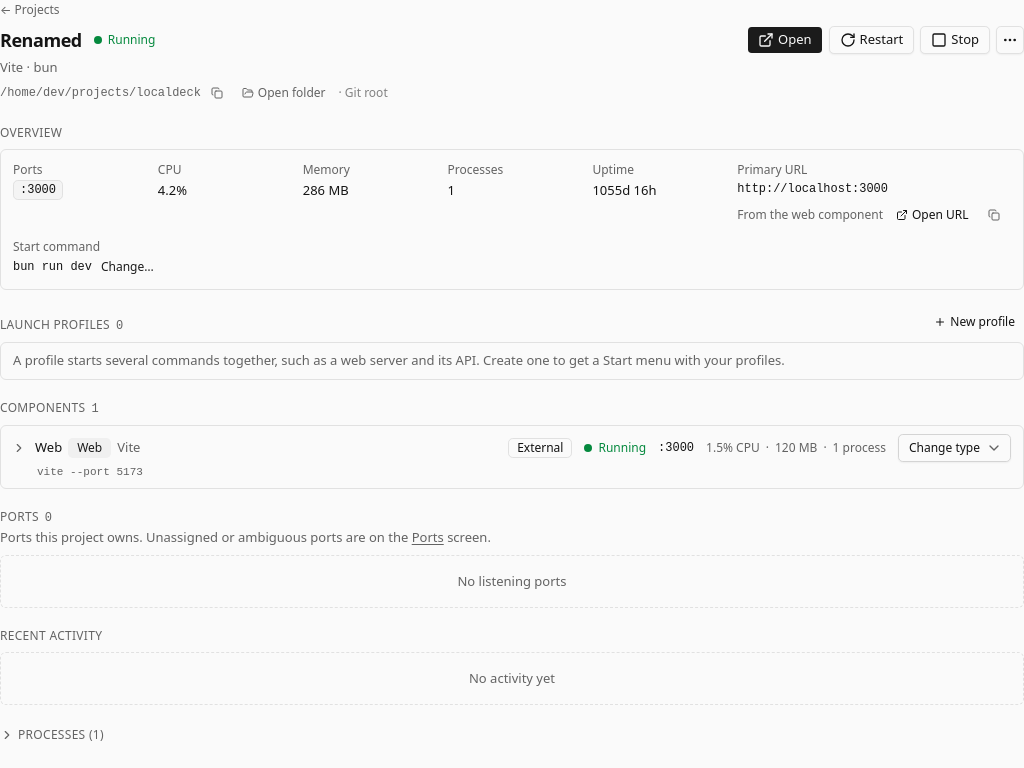
Test case: project settings dialog › is prefilled from the overrides and saves every field
Click the button named "More actions".
click(1010, 40)  # box [996,26,1023,54]
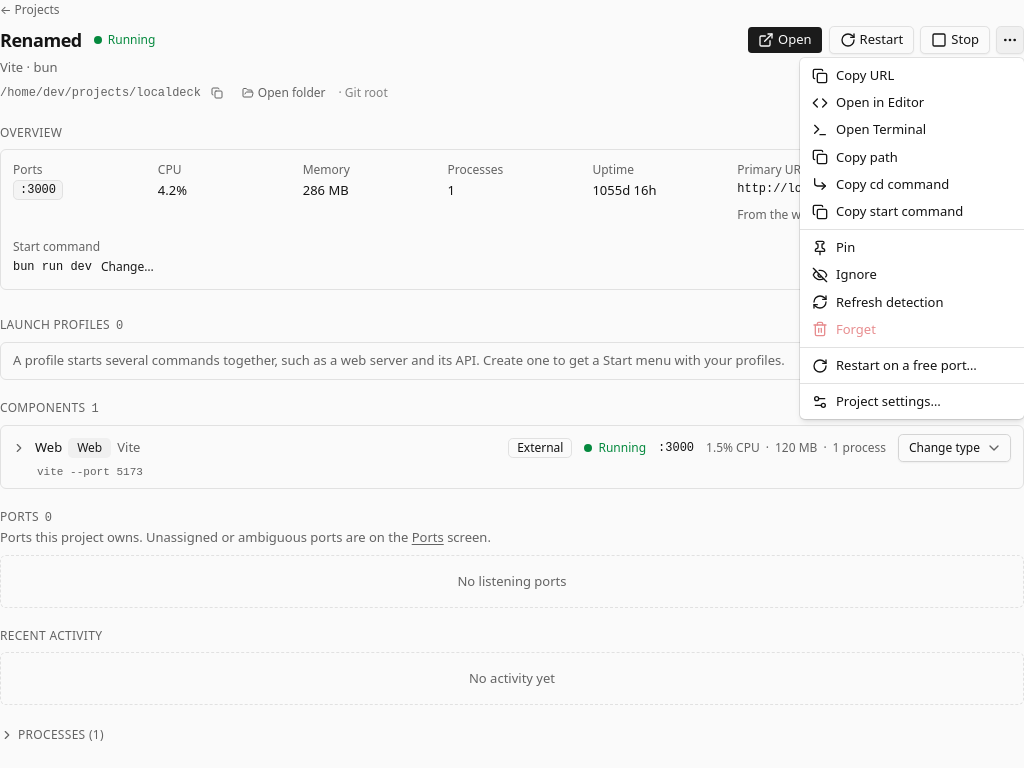
Click the menu item "Project settings…".
click(876, 401)  # box [812,392,941,410]
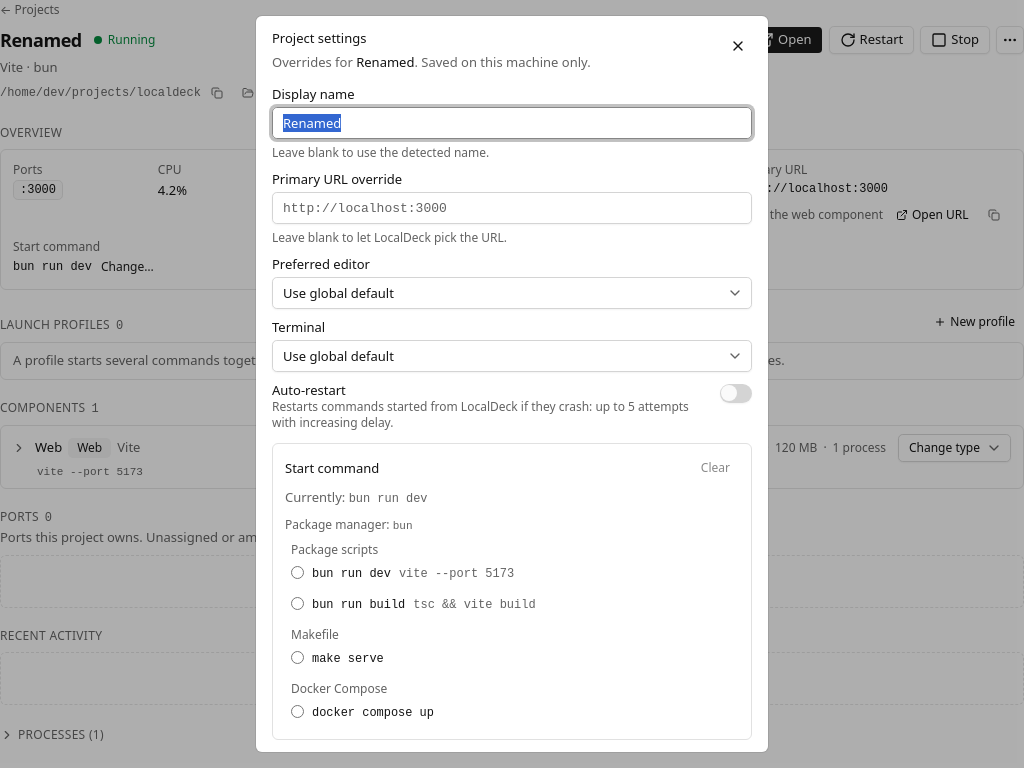
Now the field labelled "Display name" holds "Renamed"
Replace the text in the field labelled "Display name" with "My app" at (512, 123), box [272,107,752,139]
Type "localhost:4000" into the field labelled "Primary URL override".
click(512, 208); type("localhost:4000")  # box [272,192,752,224]
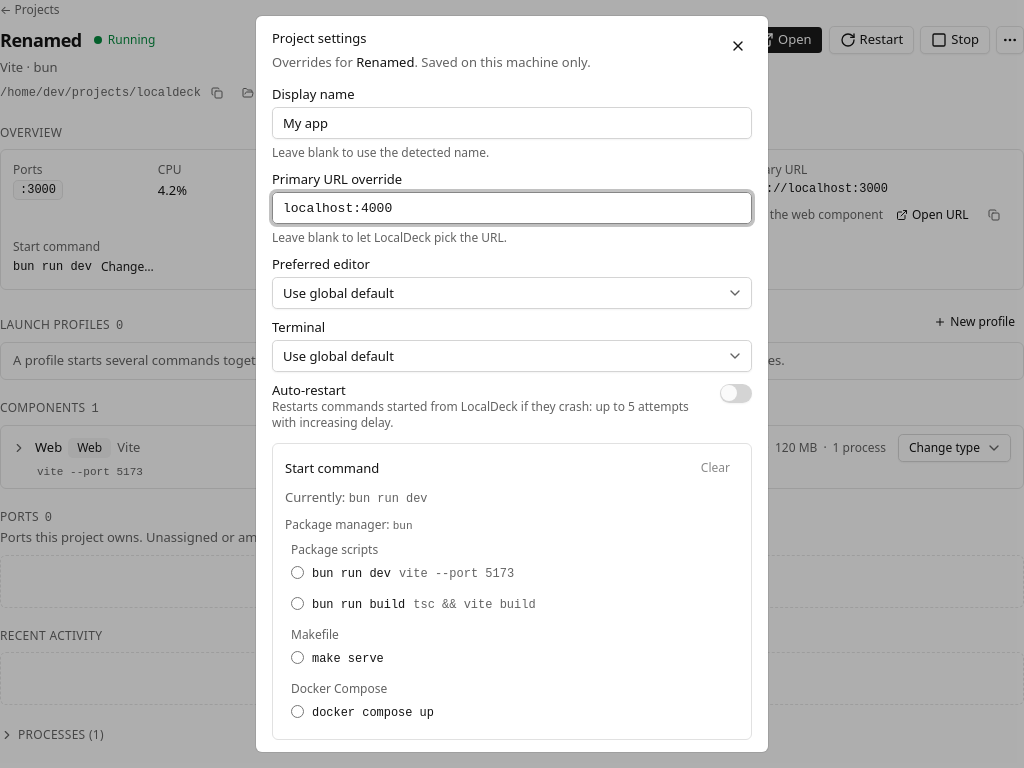
Click the dropdown named "Preferred editor".
click(338, 293)  # box [272,277,752,309]
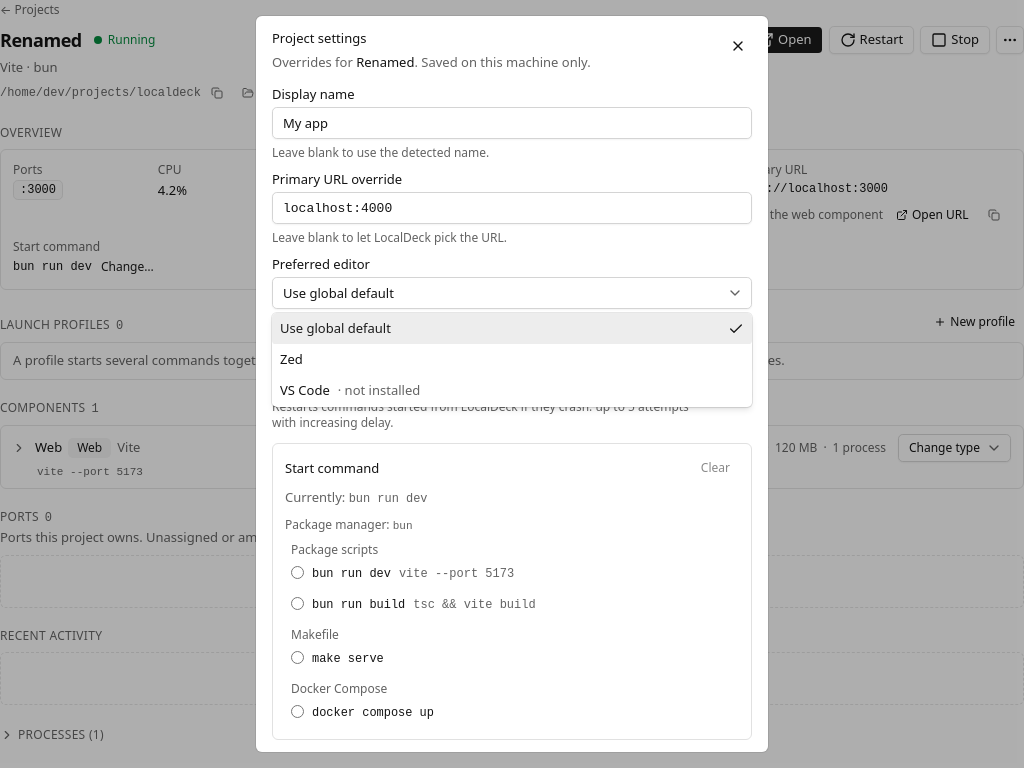
Now the option "VS Code · not installed" is shown, box [280,381,420,399]
Click the option "Zed".
click(291, 359)  # box [280,350,303,368]
(page scrolled)
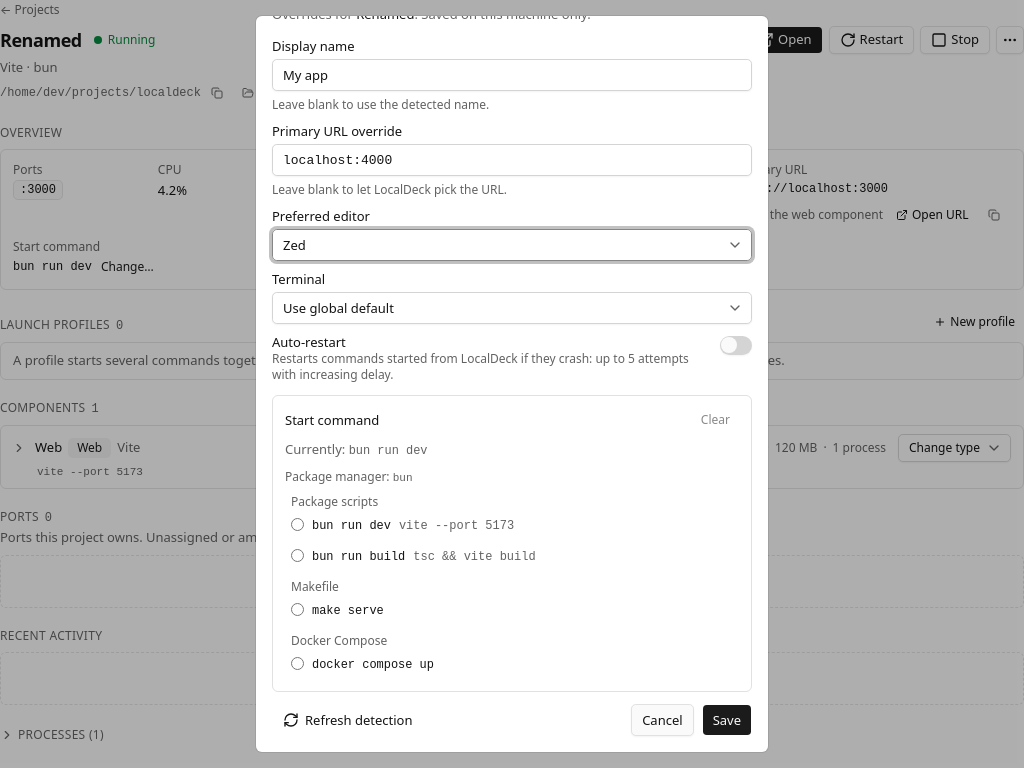
Click the button "Save".
click(727, 720)  # box [702,704,752,736]
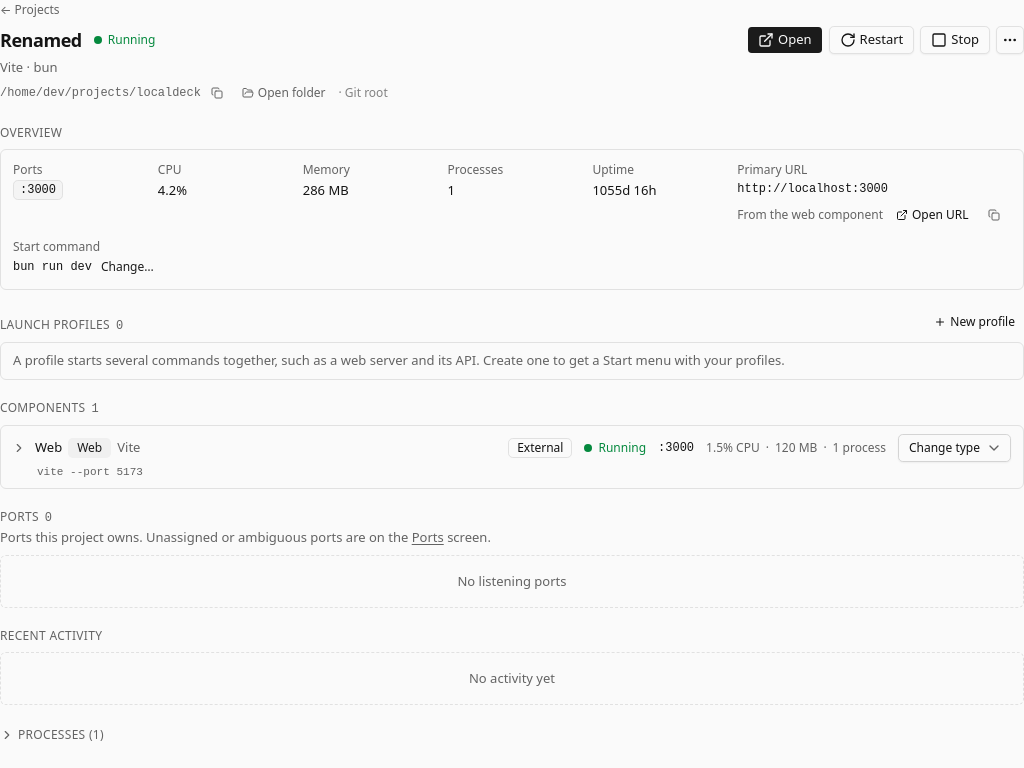
Now the dialog is gone
